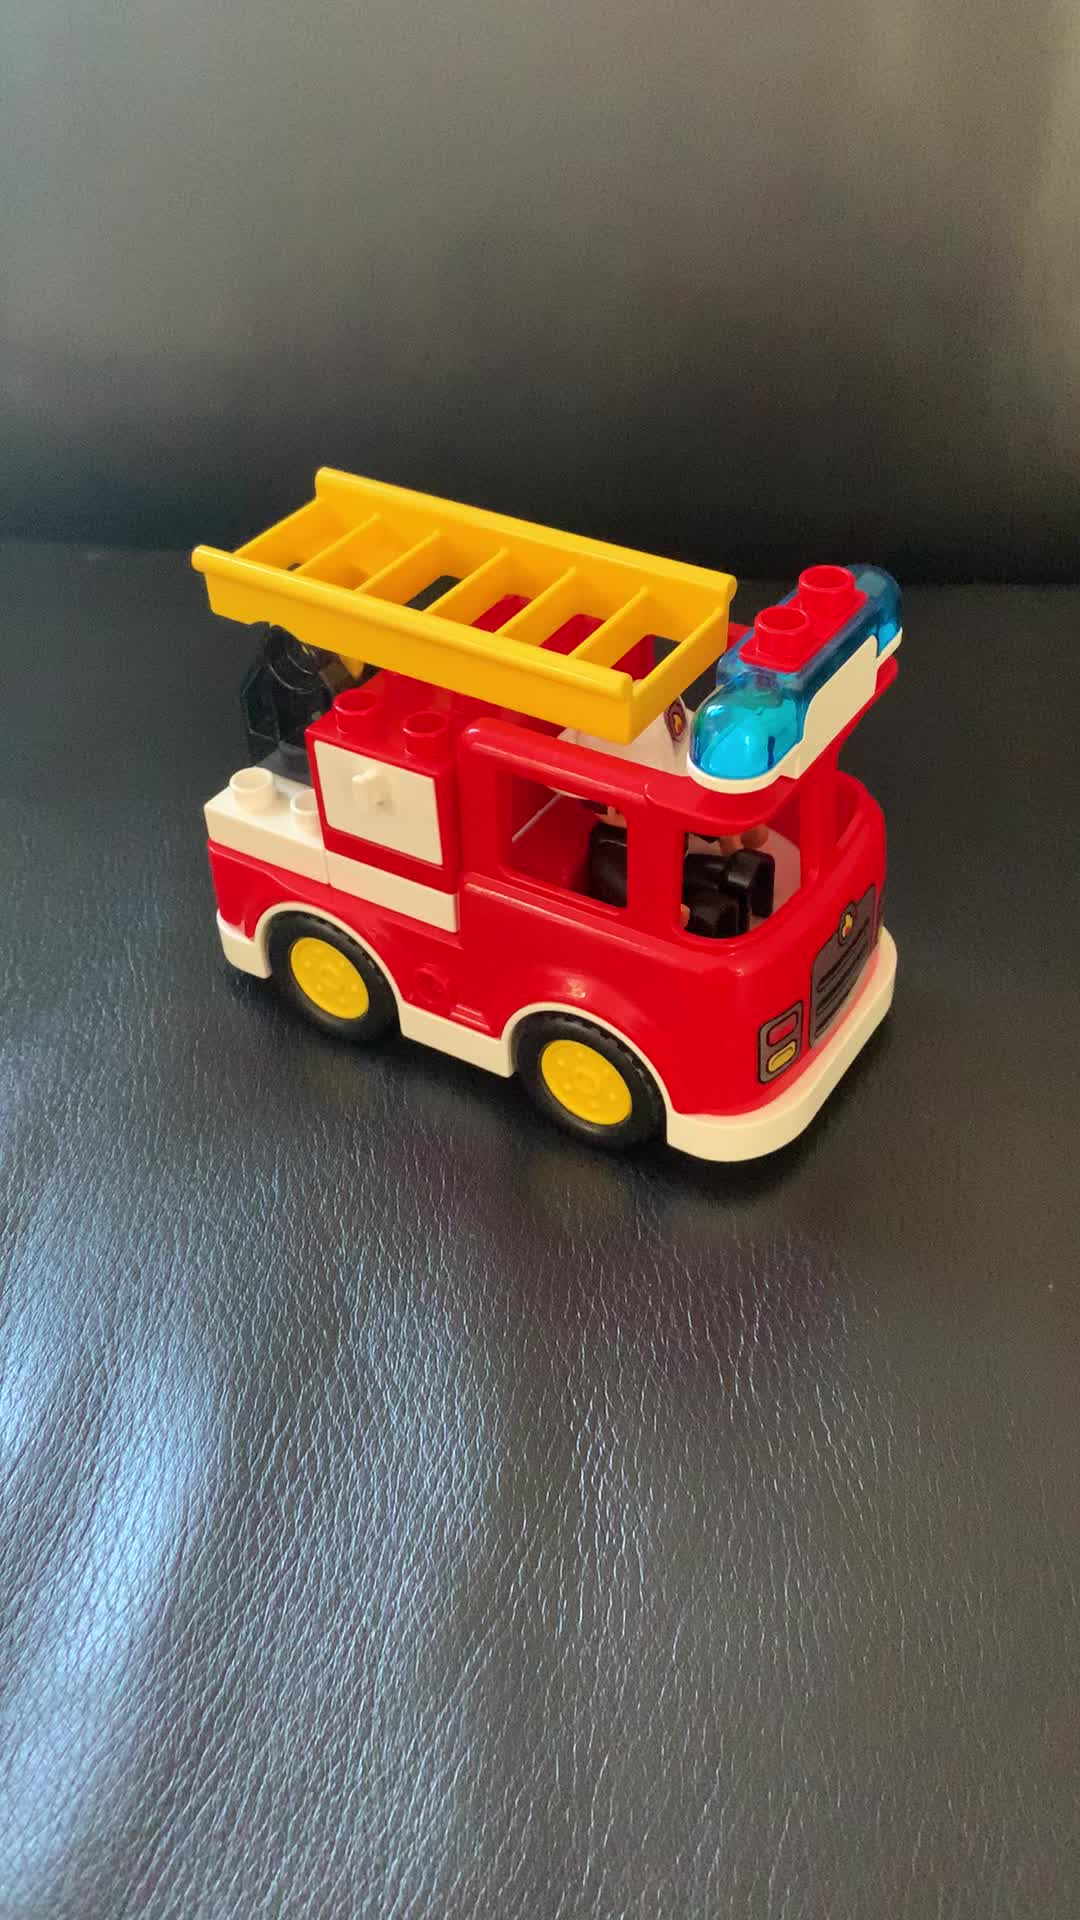lego fire truck: (179, 459, 905, 1183)
